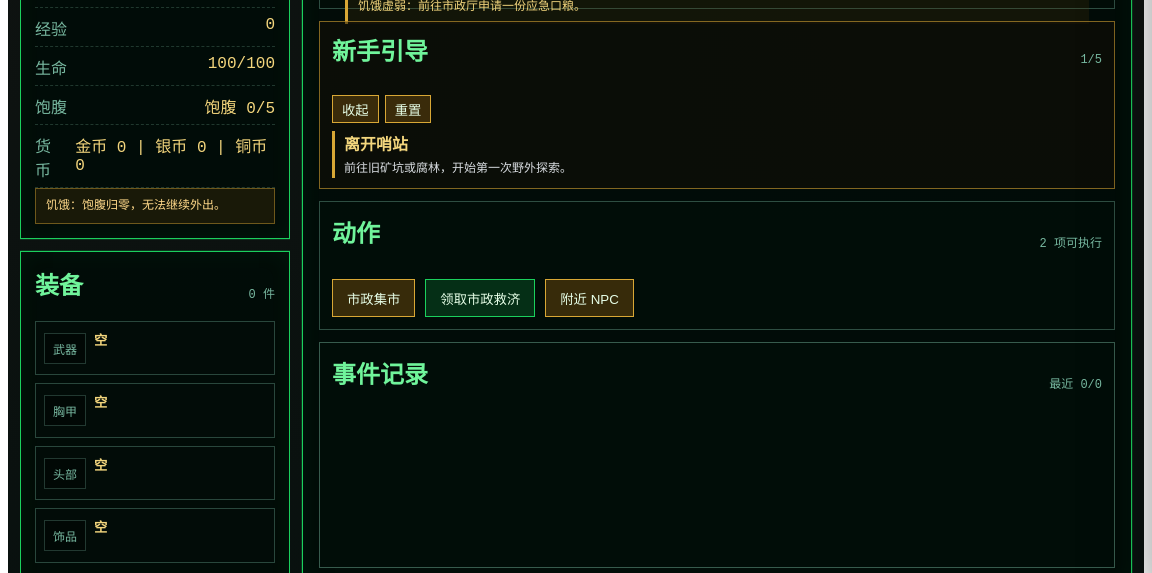
Test case: GameShell › claims municipal relief only when the server makes that action available
(page scrolled)
Click the button "领取市政救济" at (480, 298), box [425, 279, 535, 317]
(page scrolled)
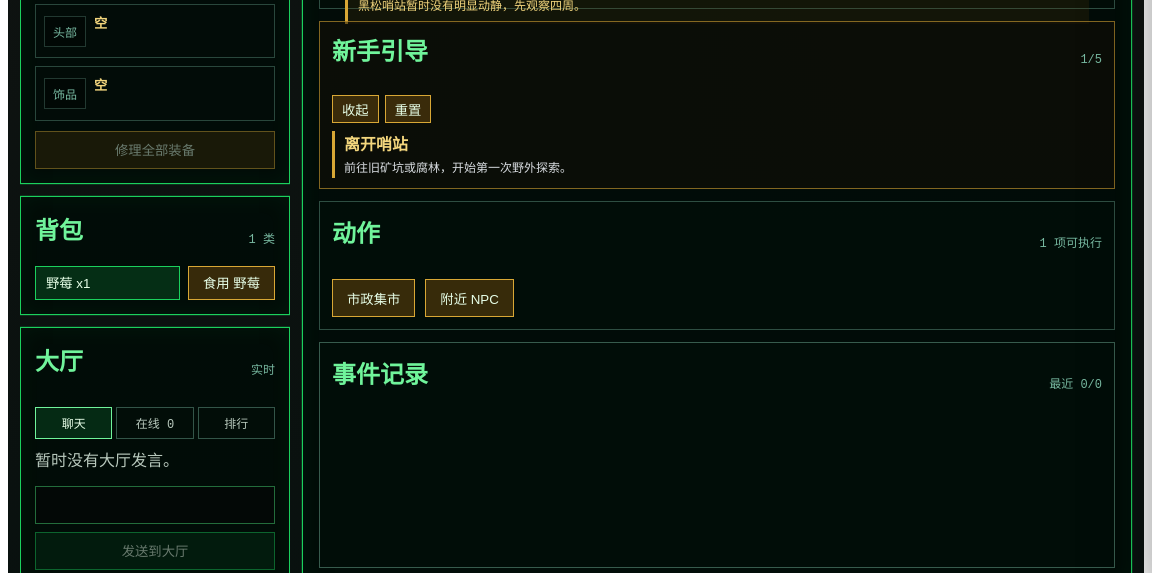
expect the button "野莓 x1" is shown: met, box [35, 266, 180, 300]
